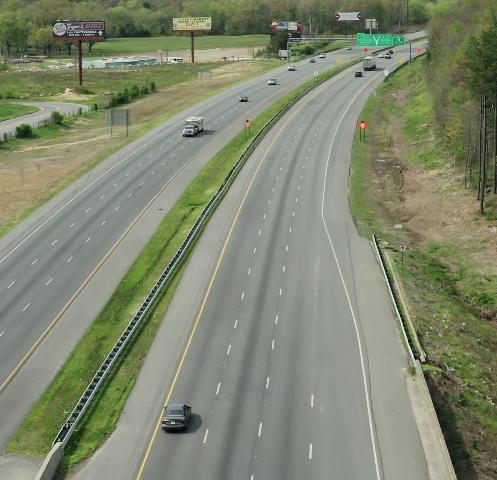car: (161, 401, 193, 433), (267, 78, 277, 86), (240, 95, 248, 102), (354, 71, 362, 78), (287, 65, 296, 71), (320, 52, 327, 58), (346, 45, 353, 51), (309, 58, 317, 63), (378, 53, 384, 59)
pickup-truck: (180, 114, 205, 139), (386, 52, 392, 58)
truck: (363, 56, 378, 71)
